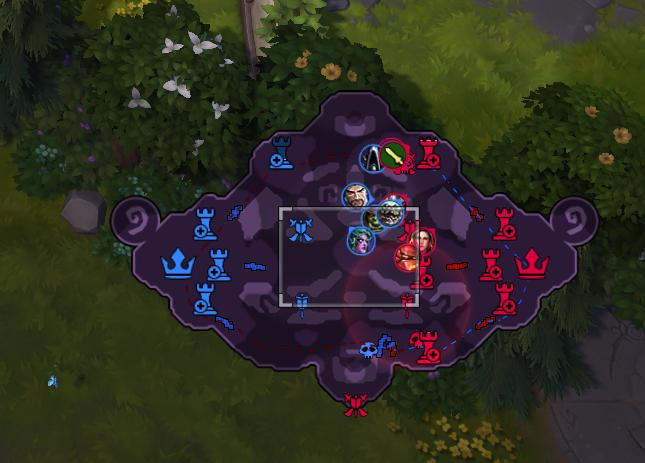blue nexus: (158, 242, 199, 283)
blue player: (375, 196, 405, 228), (340, 181, 369, 210), (346, 226, 374, 255), (358, 143, 384, 174), (361, 206, 384, 234), (354, 235, 369, 253)
blue tower: (267, 134, 294, 170), (192, 206, 218, 240), (205, 247, 231, 281), (191, 281, 217, 315)
red nexus: (512, 246, 549, 279)
red player: (377, 140, 411, 170), (409, 226, 436, 255), (393, 243, 420, 272)
red tower: (409, 330, 441, 364), (412, 136, 441, 171), (490, 205, 517, 241), (493, 281, 517, 315), (414, 252, 434, 290), (479, 247, 502, 280), (417, 267, 434, 290)
